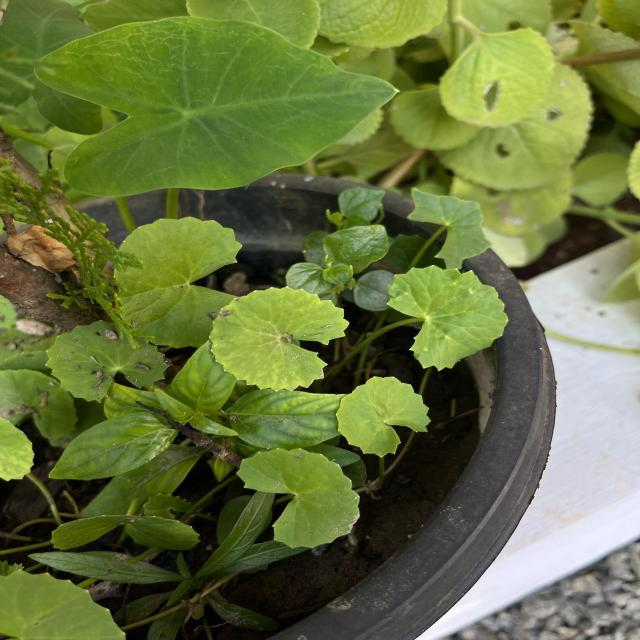Centella asiatica: (110, 213, 246, 352), (206, 282, 353, 394), (382, 262, 513, 376), (233, 444, 364, 552), (332, 374, 436, 461)
